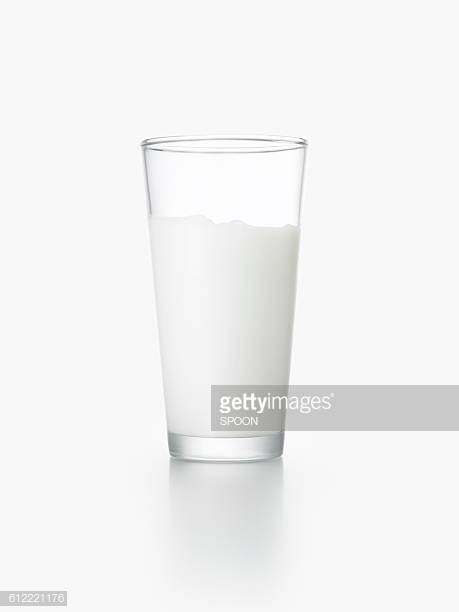glass of milk: (146, 134, 226, 463)
